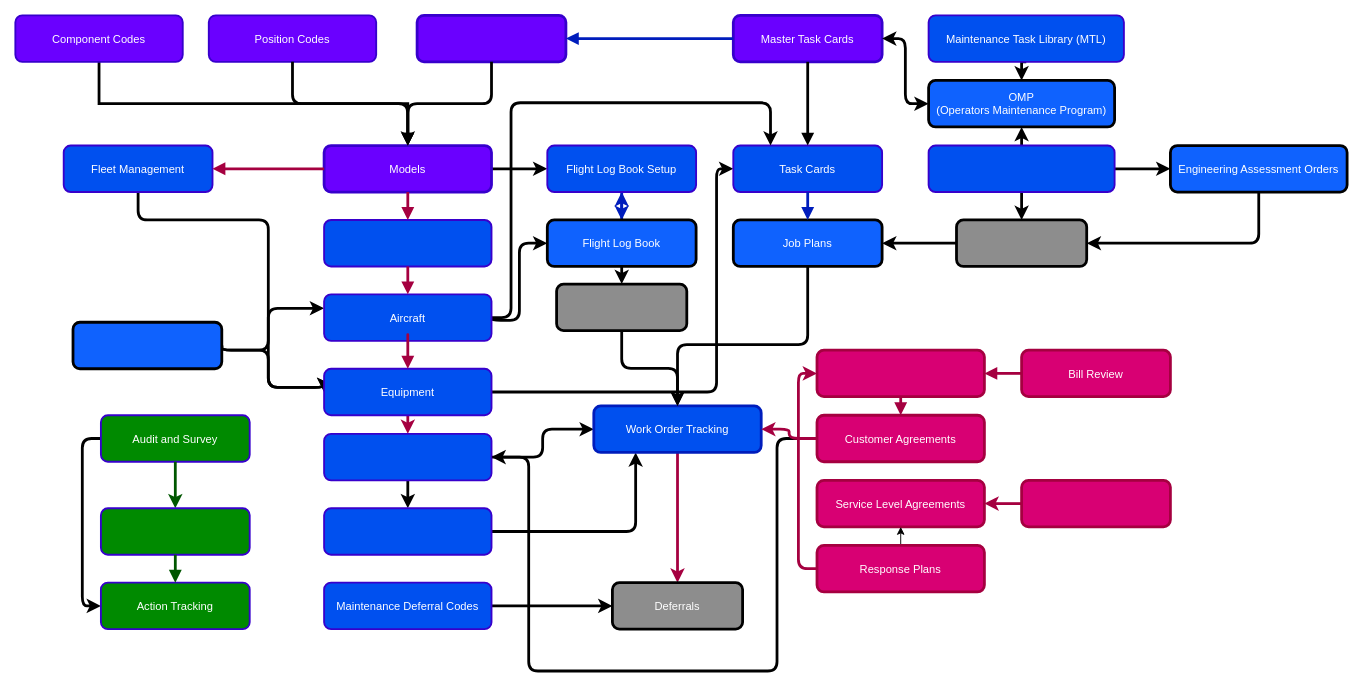
Some shapes in this 1362 by 686 pixel diagram are drawn without their labels. Each missing label, with the box of its shape:
Customer Billing: (815, 348, 985, 398)
Customers: (1020, 478, 1171, 528)
Defects: (100, 507, 250, 555)
Discrepancies: (555, 282, 688, 332)
Engineering Orders: (955, 218, 1088, 267)
Events Management: (71, 320, 223, 370)
Findings: (323, 507, 492, 555)
New Aircraft and Equipment: (323, 219, 492, 267)
Part Number Master: (415, 13, 567, 63)
Technical Publications: (927, 144, 1115, 193)
Work Packages: (323, 432, 492, 481)
